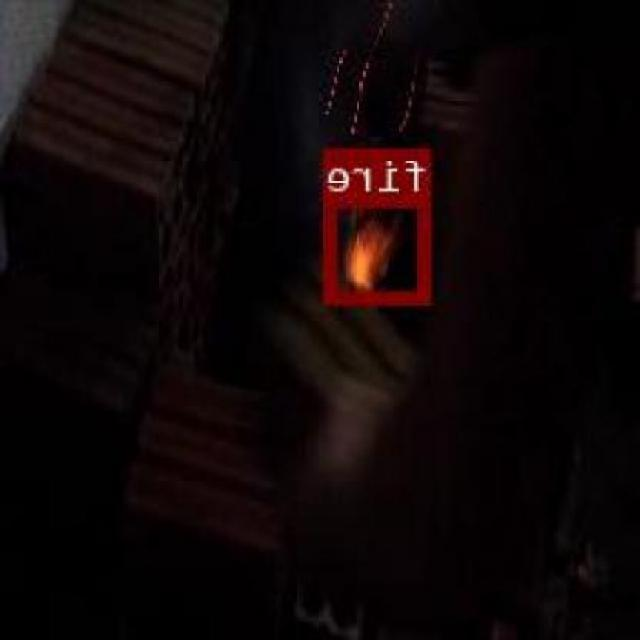fire: (328, 193, 432, 302)
